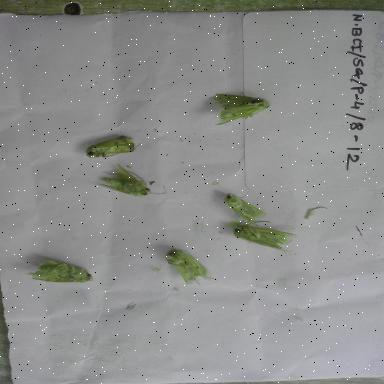abw: (152, 242, 224, 292), (90, 158, 172, 200), (18, 250, 102, 290), (204, 90, 276, 132), (220, 218, 302, 254), (74, 128, 148, 164), (216, 188, 276, 227)
